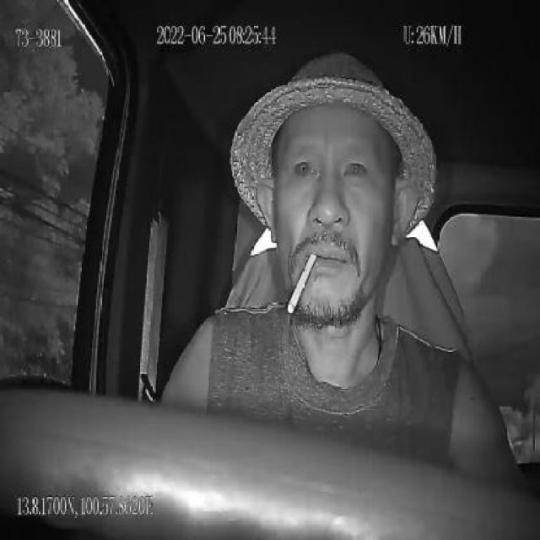smoking: (286, 250, 320, 316)
